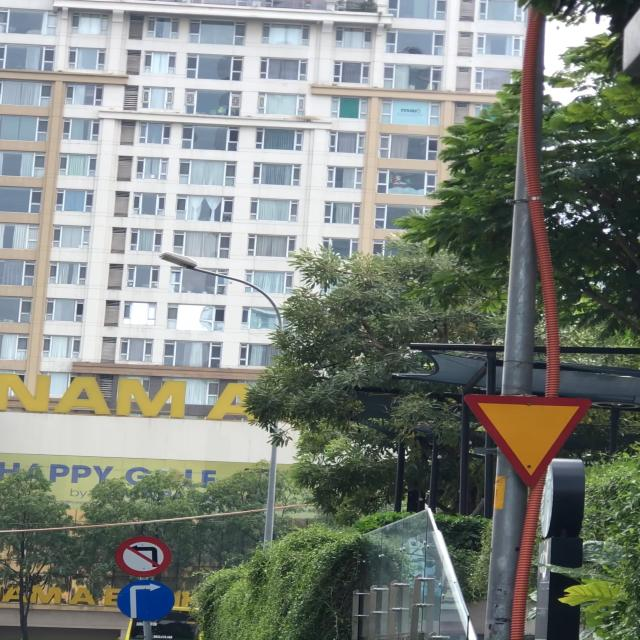Bien bao cam re trai: (108, 534, 177, 577)
Bien bao giao nhau voi duong uu tien: (455, 390, 600, 493)
Bien bao huong di phai theo: (116, 577, 180, 626)
